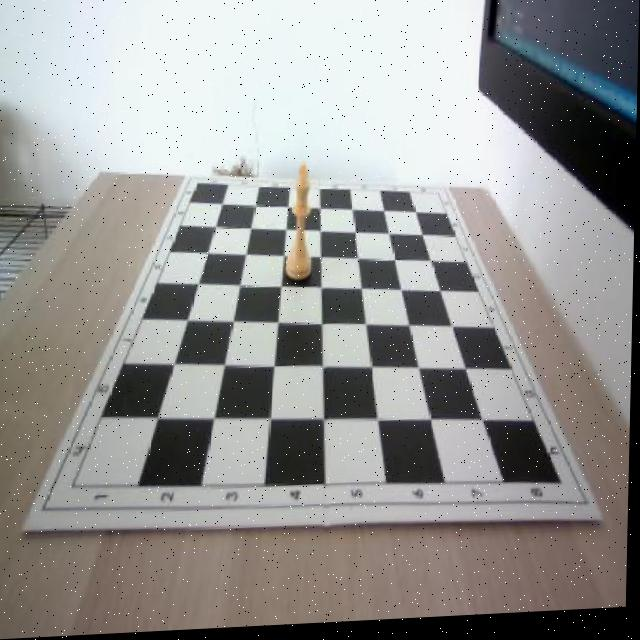white-bishop: (285, 166, 314, 284)
